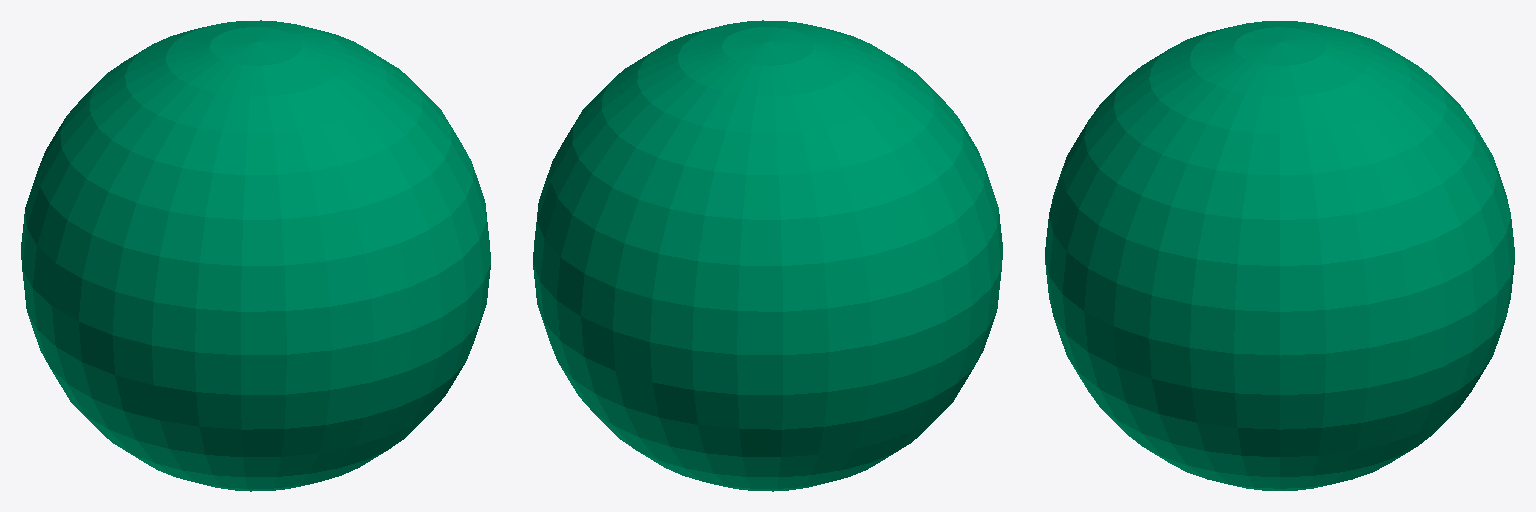
robot.urdf — pendulum:
<?xml version="1.0"?>
<!-- Fixed-base pendulum: 1 kg point-like mass 0.5 m below a hinge about y. Small-angle period
     T = 2*pi*sqrt(0.5 / 9.81) = 1.4185 s. Torque limit 5 Nm. -->
<robot name="pendulum">
  <link name="world"/>

  <link name="base">
    <inertial>
      <mass value="1.0"/>
      <inertia ixx="0.001" ixy="0" ixz="0" iyy="0.001" iyz="0" izz="0.001"/>
    </inertial>
  </link>
  <joint name="world_to_base" type="fixed">
    <parent link="world"/>
    <child link="base"/>
    <origin xyz="0 0 1.0" rpy="0 0 0"/>
  </joint>

  <link name="arm">
    <inertial>
      <origin xyz="0 0 -0.5" rpy="0 0 0"/>
      <mass value="1.0"/>
      <inertia ixx="1e-6" ixy="0" ixz="0" iyy="1e-6" iyz="0" izz="1e-6"/>
    </inertial>
    <visual>
      <origin xyz="0 0 -0.5" rpy="0 0 0"/>
      <geometry>
        <sphere radius="0.05"/>
      </geometry>
    </visual>
  </link>
  <joint name="hinge" type="revolute">
    <parent link="base"/>
    <child link="arm"/>
    <axis xyz="0 1 0"/>
    <limit lower="-10" upper="10" effort="5" velocity="100"/>
  </joint>
</robot>

--- What the picture shows (computed from the rendered views, not written in the file) ---
Views: 3 orthographic renders of the robot side by side, from view 1: azimuth 30°, elevation 25°; view 2: azimuth 150°, elevation 25°; view 3: azimuth 270°, elevation 25°.
Robot: pendulum — 3 links, 2 joints (1 revolute, 1 fixed); root link world; default pose: every joint at zero.
Visible links, largest first — view 1: arm; view 2: arm; view 3: arm.
Boxes of the visible links, <box> form: arm: <box>21,20,490,491</box>; arm: <box>533,20,1002,491</box>; arm: <box>1045,21,1514,490</box>.
Bounding box of the posed robot: 0.1 × 0.1 × 0.1 m (x, y, z).
Geometry: primitives only (box / cylinder / sphere), no mesh files.
